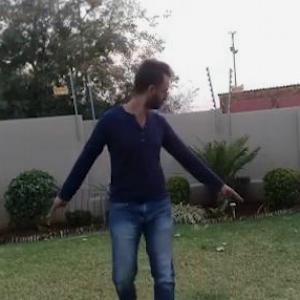land: (22, 65, 249, 299)
